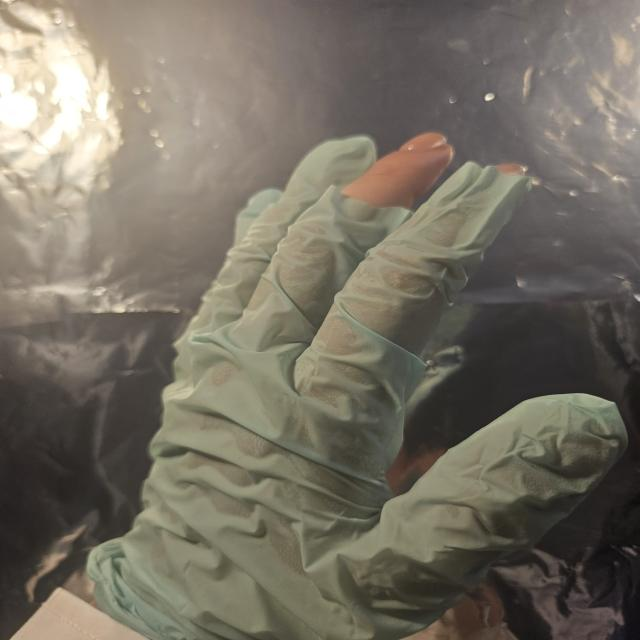gloves_damaged: (66, 128, 628, 640)
